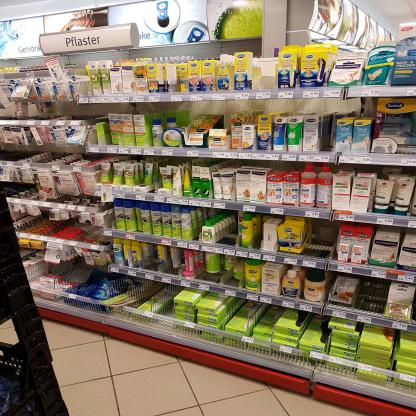Void: (251, 54, 276, 91), (306, 224, 334, 257), (360, 277, 382, 314), (225, 213, 242, 243)
